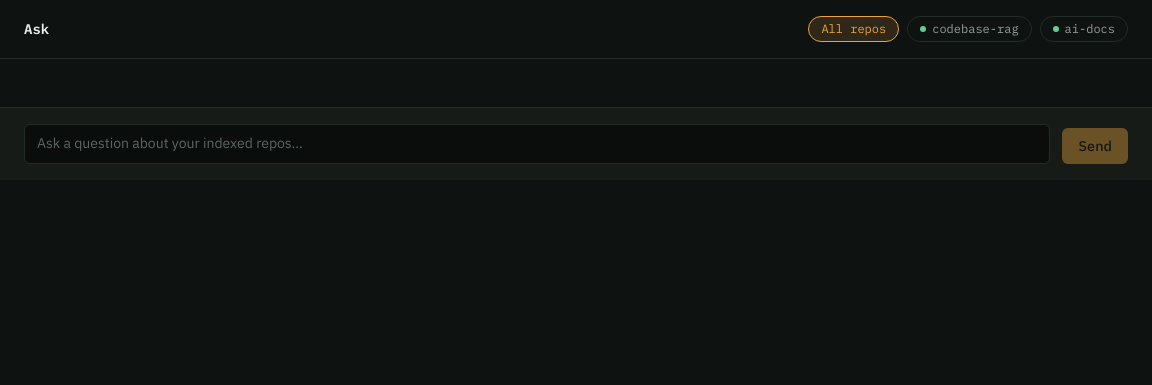
Test: AskPage › Error state: a query failure is shown clearly with a retry affordance
Step 1. Type "a question" into the text box labelled "Ask a question about your indexed repos…" → (537, 144), box [24,124,1050,164]
Then press Enter
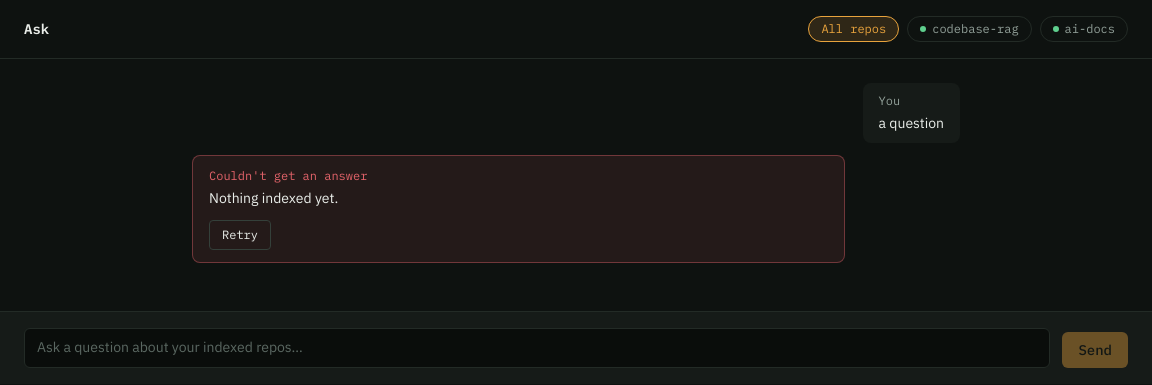
Expected: the text "Nothing indexed yet." is shown, [209,189,338,207]
Expected: the message "Couldn't get an answer Nothing indexed yet. Retry" is shown, [192,155,845,263]
Step 2. Click the button "Retry" → (240, 235), box [209,220,271,250]
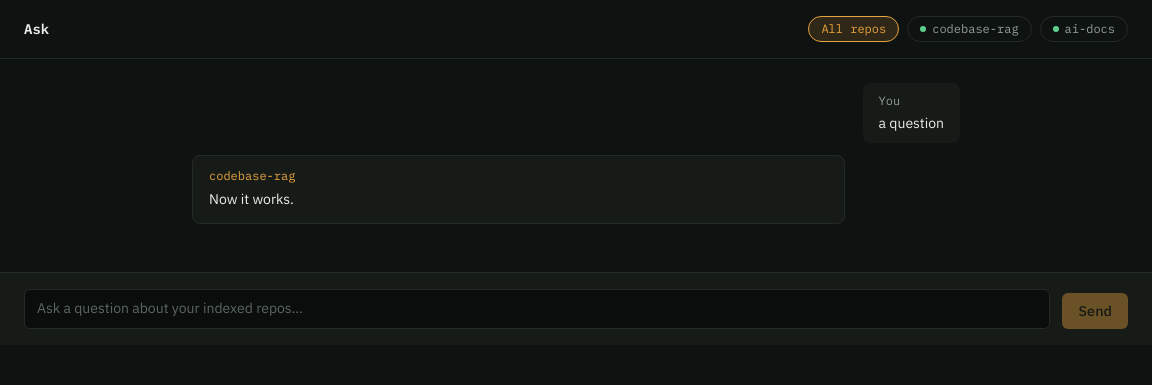
Expected: the text "Now it works." is shown, [209,190,294,208]
Expected: the text "Nothing indexed yet." is gone
